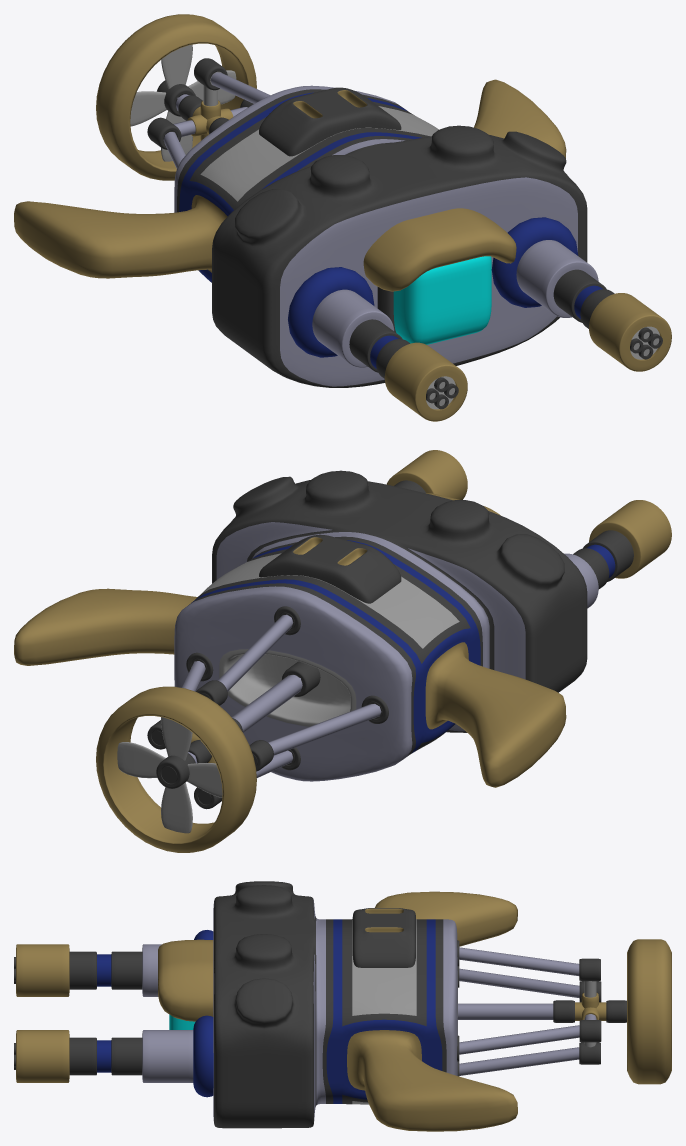
File: Submarine_Clione.fbx
The picture shows the model from 3 angles, top to bottom: view 1: azimuth 30°, elevation 25°; view 2: azimuth 150°, elevation 25°; view 3: azimuth 270°, elevation 25°; orthographic projection. The views are drawn at different scales.
Parts seen in each view (by area): view 1: Clion_shipShape; view 2: Clion_shipShape; view 3: Clion_shipShape.
Part boxes in pixels (bbox=[...]): Clion_shipShape: bbox=[14, 14, 671, 421]; Clion_shipShape: bbox=[14, 450, 671, 852]; Clion_shipShape: bbox=[14, 881, 671, 1131].
Size of the model in its own units: 243 by 96.14 by 324.
